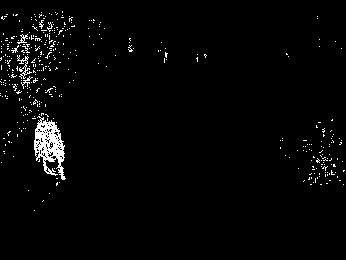person: (32, 111, 67, 184)
